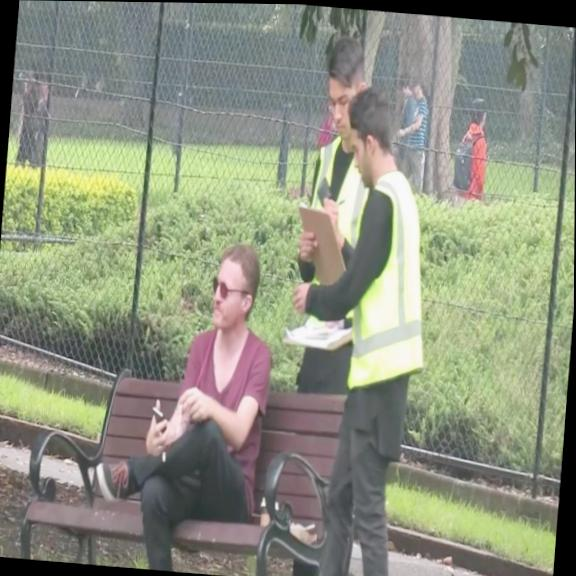safety_vest: (345, 164, 438, 397), (303, 128, 374, 325)
